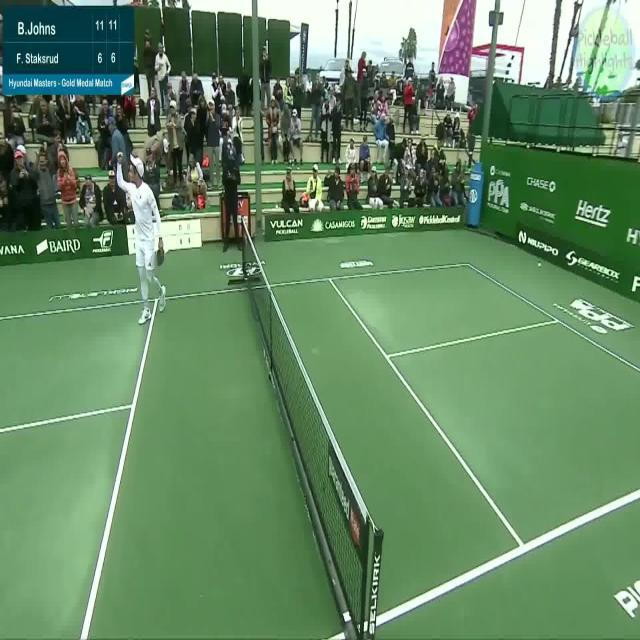ball: (537, 258, 542, 269)
